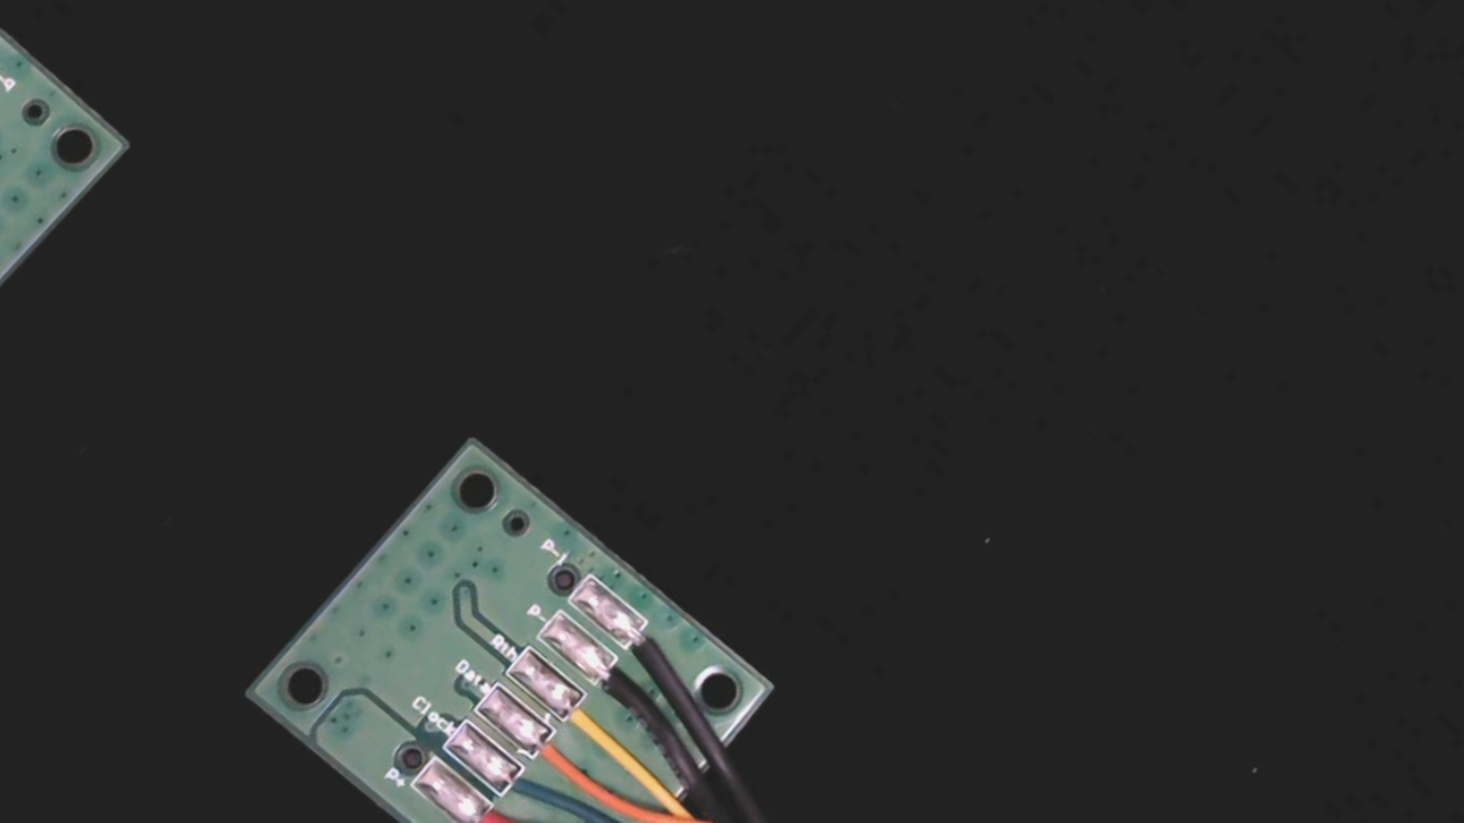Black: (583, 648, 661, 722)
Black1: (612, 611, 690, 685)
Green: (486, 757, 564, 823)
Orange: (521, 723, 596, 795)
Red: (453, 793, 537, 823)
Yellow: (550, 683, 632, 763)
